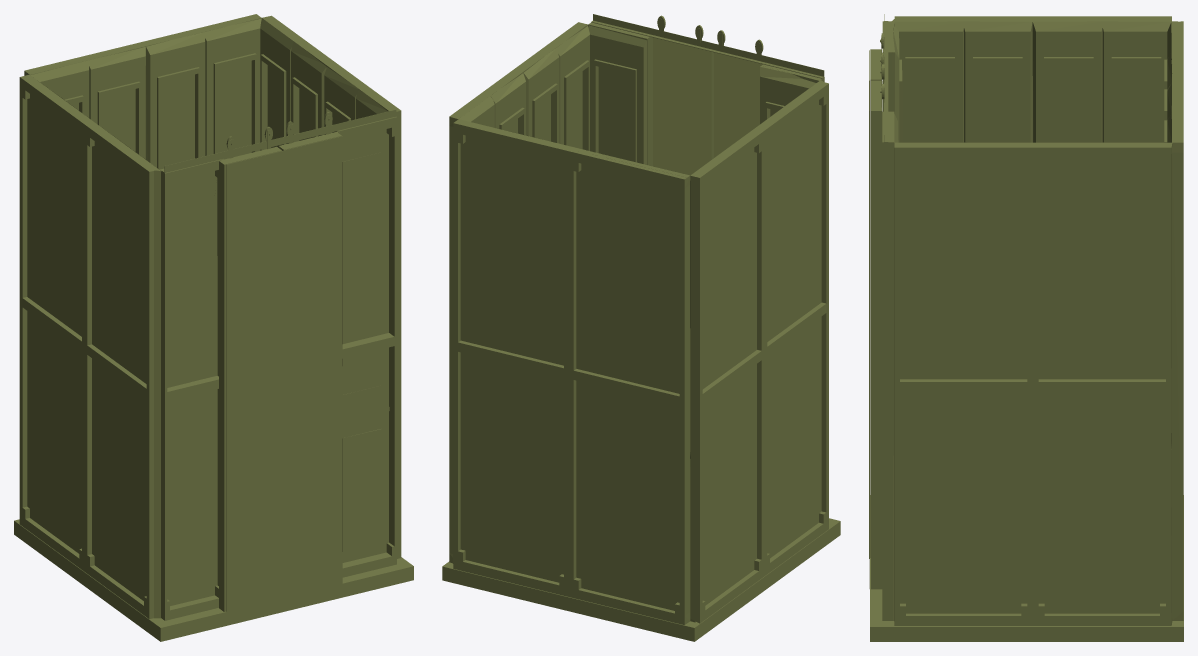
File: Elevator.glb
3 views of the same model, side by side, from view 1: azimuth 30°, elevation 25°; view 2: azimuth 150°, elevation 25°; view 3: azimuth 270°, elevation 25° (orthographic). The views are drawn at different scales.
Parts seen in each view (by area): view 1: Cube.011; view 2: Cube.011; view 3: Cube.011.
Part boxes in pixels (box(x1,y1,x2,y2)): Cube.011: box(14, 14, 413, 641); Cube.011: box(442, 14, 840, 641); Cube.011: box(869, 14, 1183, 641).
Bounding box in the file's own units: 2.99 × 5.45 × 3.01.
